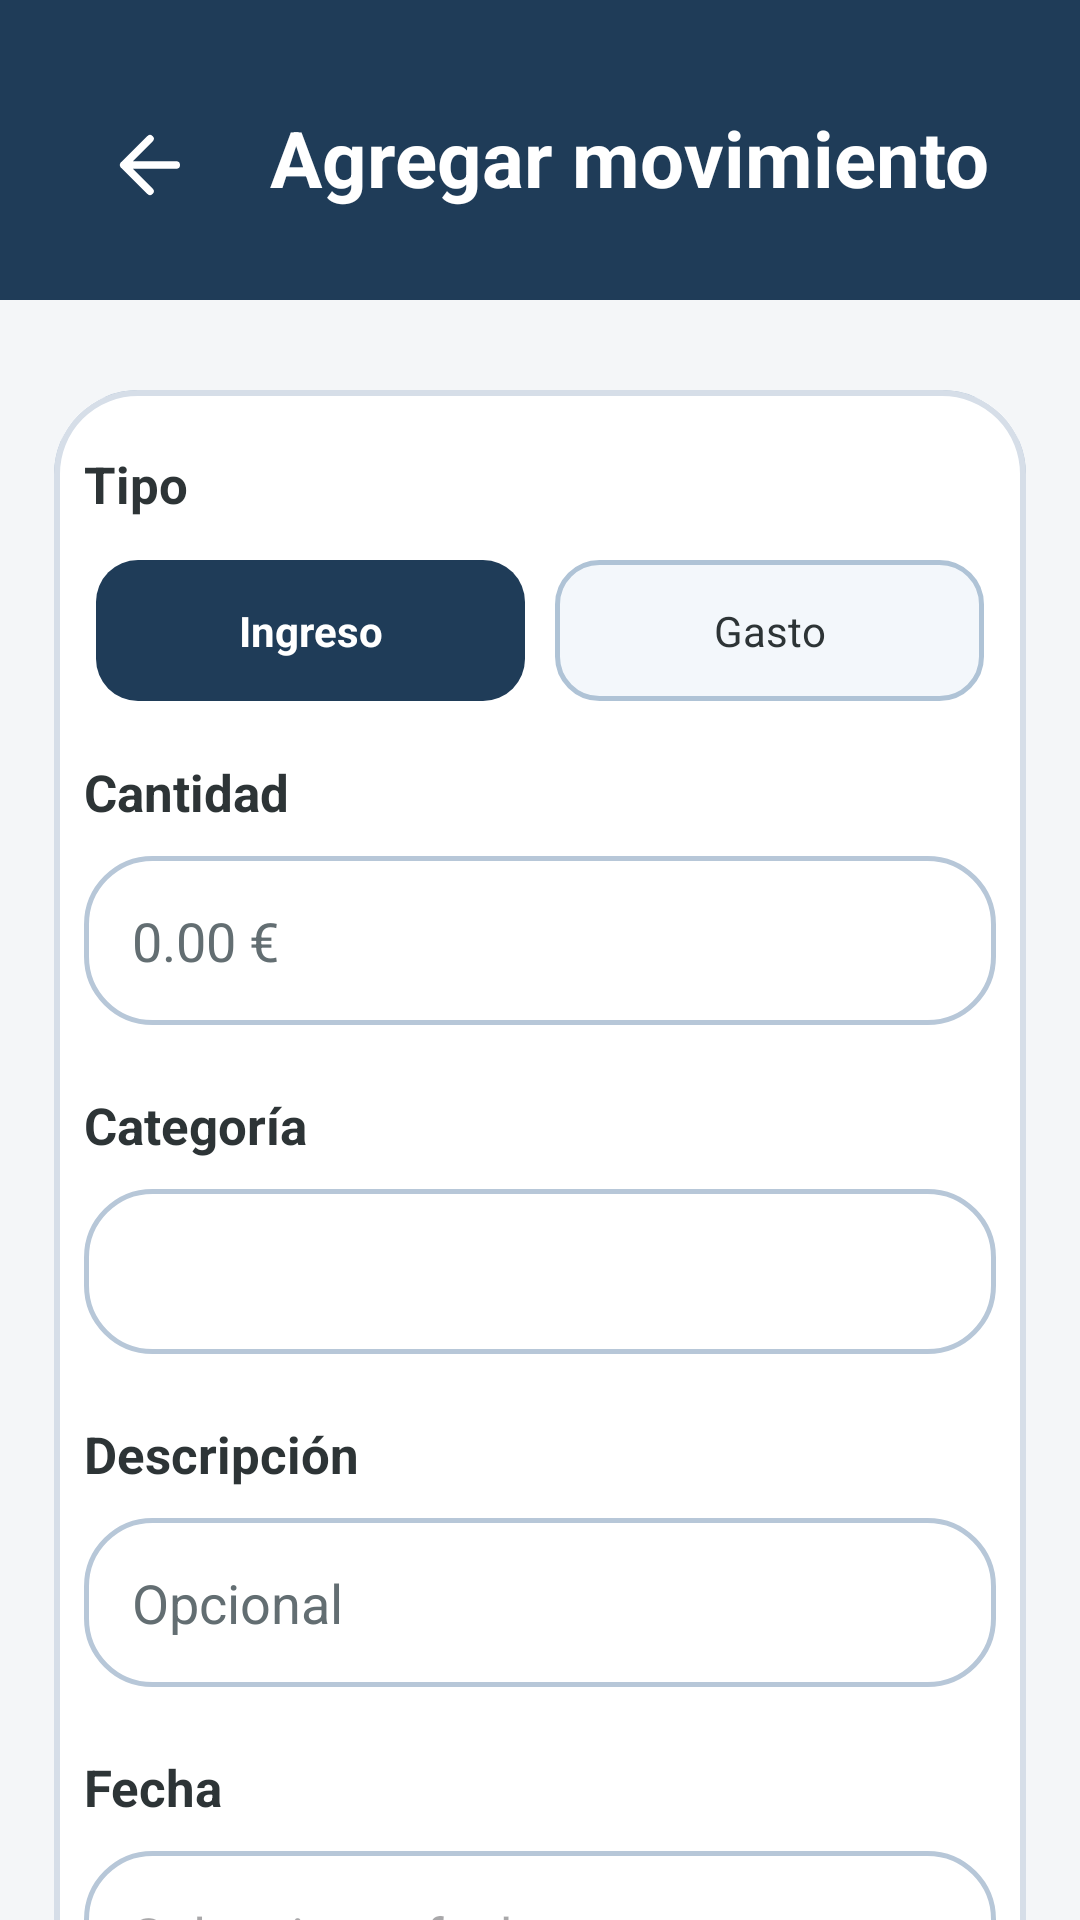

Named icons in this screenshot (1080px×1920px) and their centers, point (x, y):
flecha atras: point (149, 165)
